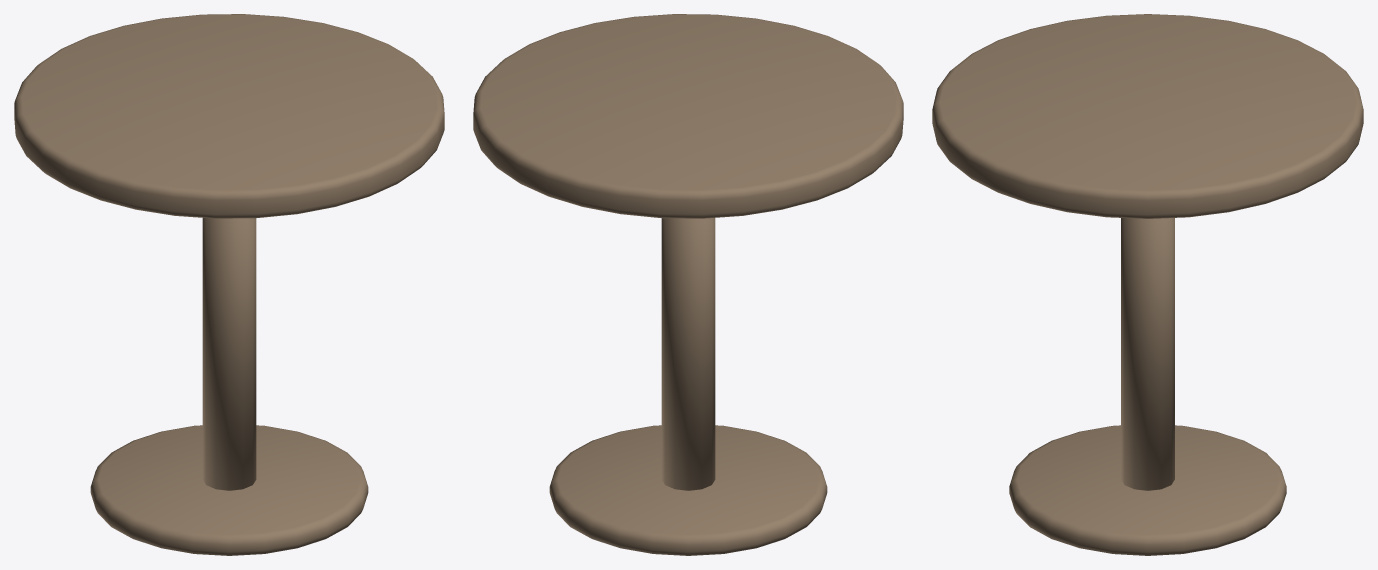
The model's file is sidetable.glb.
The picture shows the model from 3 angles, left to right: view 1: azimuth 30°, elevation 25°; view 2: azimuth 150°, elevation 25°; view 3: azimuth 270°, elevation 25°; orthographic projection.
Parts seen in each view (by area): view 1: TableTop, TableBase, TableStem; view 2: TableTop, TableBase, TableStem; view 3: TableTop, TableBase, TableStem.
Boxes of the visible parts, x1,y1,x2,y2 form: TableTop: (14, 14, 444, 218); TableBase: (90, 425, 368, 555); TableStem: (202, 218, 256, 490); TableTop: (473, 14, 903, 218); TableBase: (549, 425, 827, 555); TableStem: (661, 218, 715, 490); TableTop: (932, 14, 1363, 218); TableBase: (1009, 425, 1286, 555); TableStem: (1121, 218, 1174, 490).
Bounding box in the file's own units: 0.56 × 0.57 × 0.56.
